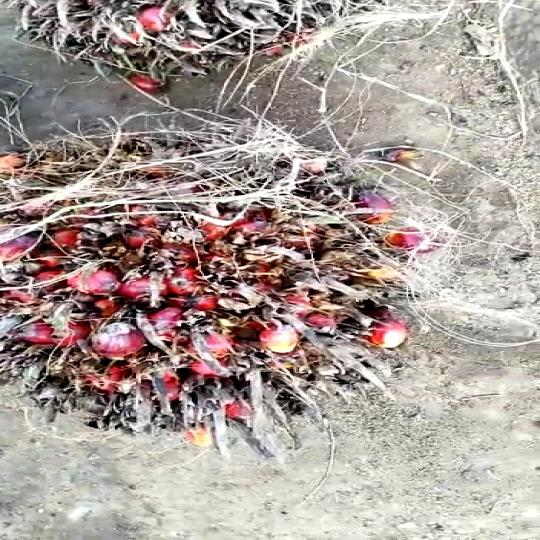terlalu masak: (0, 136, 445, 443)
